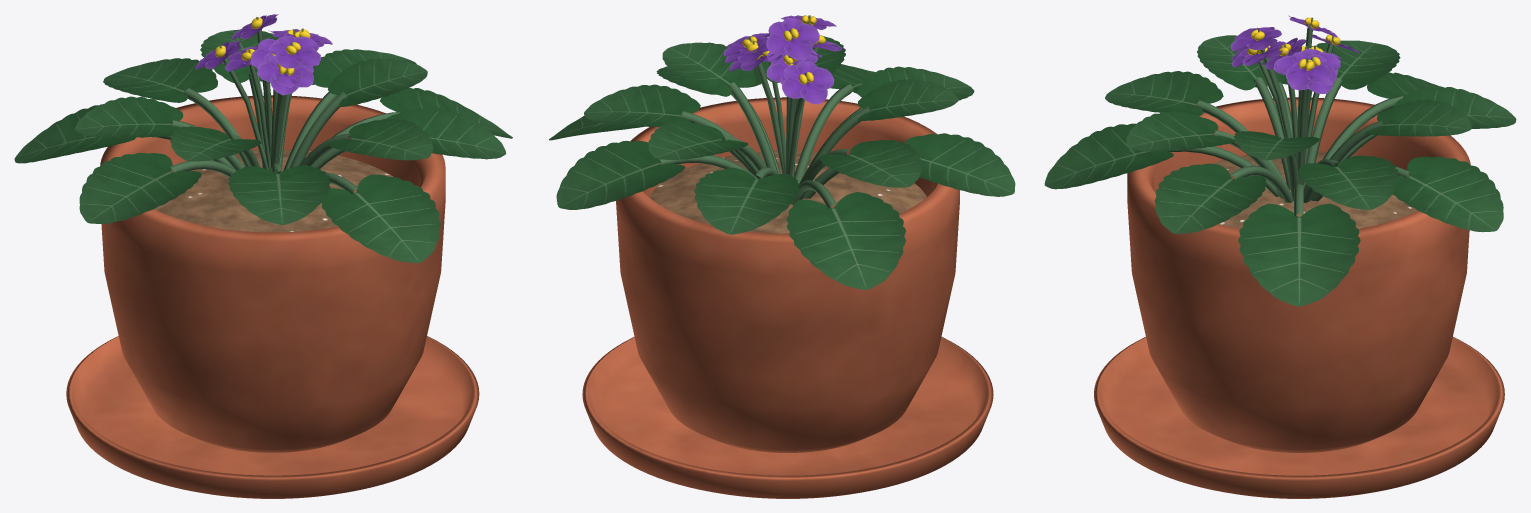
File: violet.glb
3 views of the same model, side by side, from view 1: azimuth 30°, elevation 25°; view 2: azimuth 150°, elevation 25°; view 3: azimuth 270°, elevation 25° (orthographic).
Parts seen in each view (by area): view 1: piece-0, piece-1, piece-5, piece-2, piece-7, piece-17, piece-10, piece-12, piece-9, piece-8, piece-13, piece-16 (+8 smaller); view 2: piece-0, piece-1, piece-4, piece-17, piece-6, piece-9, piece-2, piece-7, piece-11, piece-12, piece-16, piece-15 (+9 smaller); view 3: piece-0, piece-1, piece-3, piece-17, piece-6, piece-8, piece-5, piece-11, piece-10, piece-13, piece-14, piece-2 (+8 smaller).
Boxes of the visible parts, left/top/right/bottom form: piece-0: left=100, top=95, right=445, bottom=452; piece-1: left=66, top=336, right=479, bottom=498; piece-5: left=321, top=174, right=440, bottom=262; piece-2: left=154, top=149, right=393, bottom=232; piece-7: left=79, top=153, right=201, bottom=223; piece-17: left=156, top=72, right=400, bottom=193; piece-10: left=228, top=165, right=330, bottom=224; piece-12: left=75, top=96, right=183, bottom=137; piece-9: left=103, top=58, right=217, bottom=102; piece-8: left=387, top=107, right=506, bottom=159; piece-13: left=326, top=118, right=433, bottom=160; piece-16: left=327, top=58, right=427, bottom=106; piece-0: left=616, top=97, right=959, bottom=452; piece-1: left=582, top=336, right=993, bottom=498; piece-4: left=786, top=192, right=905, bottom=289; piece-17: left=659, top=82, right=870, bottom=208; piece-6: left=556, top=140, right=685, bottom=209; piece-9: left=694, top=168, right=799, bottom=234; piece-2: left=649, top=151, right=926, bottom=233; piece-7: left=904, top=133, right=1015, bottom=196; piece-11: left=584, top=84, right=700, bottom=127; piece-12: left=819, top=140, right=921, bottom=187; piece-16: left=662, top=42, right=755, bottom=96; piece-15: left=858, top=79, right=958, bottom=120; piece-0: left=1127, top=97, right=1470, bottom=452; piece-1: left=1094, top=336, right=1504, bottom=498; piece-3: left=1238, top=203, right=1360, bottom=306; piece-17: left=1168, top=77, right=1411, bottom=216; piece-6: left=1392, top=156, right=1503, bottom=232; piece-8: left=1154, top=163, right=1266, bottom=233; piece-5: left=1044, top=123, right=1173, bottom=189; piece-11: left=1298, top=155, right=1398, bottom=210; piece-10: left=1105, top=71, right=1223, bottom=115; piece-13: left=1126, top=111, right=1234, bottom=151; piece-14: left=1365, top=99, right=1471, bottom=136; piece-2: left=1212, top=151, right=1417, bottom=228.
Bounding box in the file's own units: 0.2418 × 0.2112 × 0.2252.
Materials: 7 (4 with a texture image).
